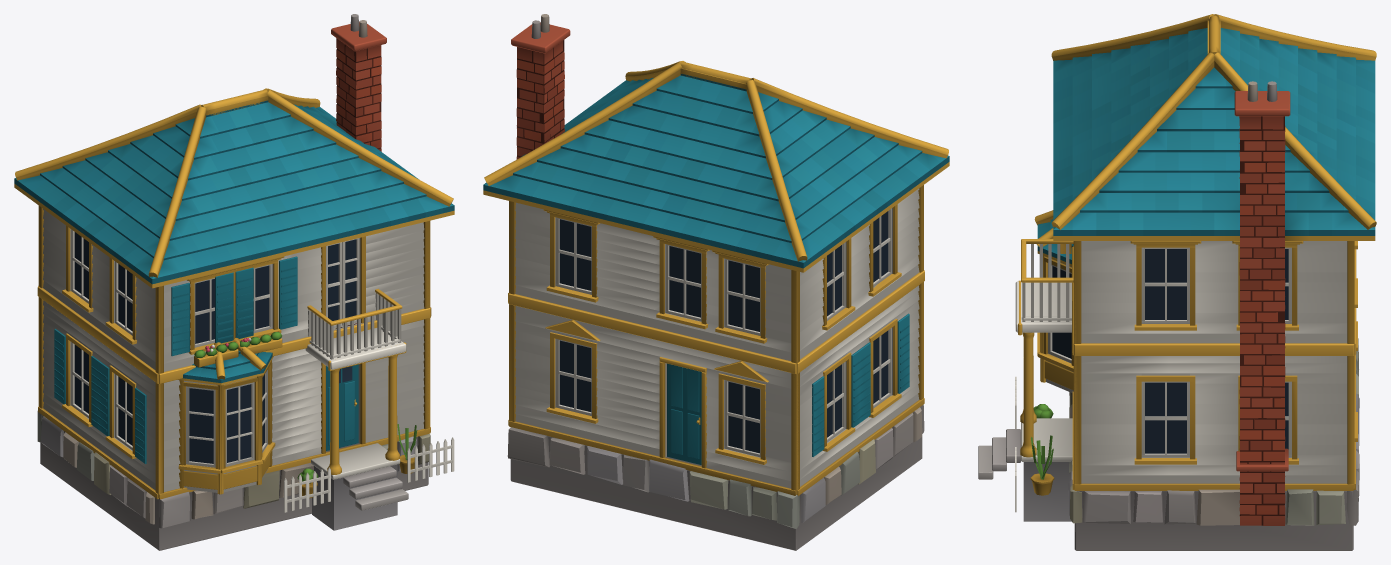
Rendered from takamori-house-a.glb.
The picture shows the model from 3 angles, left to right: view 1: azimuth 30°, elevation 25°; view 2: azimuth 150°, elevation 25°; view 3: azimuth 270°, elevation 25°; orthographic projection. The views are drawn at different scales.
Parts seen in each view (by area): view 1: Takamori house A Clapboard, Takamori house A Roof teal, Takamori house A Trim, Takamori house A Window glow, Takamori house A Brick, Takamori house A Leaf; view 2: Takamori house A Clapboard, Takamori house A Roof teal, Takamori house A Trim, Takamori house A Window glow, Takamori house A Brick; view 3: Takamori house A Clapboard, Takamori house A Roof teal, Takamori house A Trim, Takamori house A Brick, Takamori house A Window glow, Takamori house A Leaf.
Boxes of the visible parts, bbox=[...] form: Takamori house A Clapboard: bbox=[37, 14, 454, 550]; Takamori house A Roof teal: bbox=[14, 100, 454, 463]; Takamori house A Trim: bbox=[14, 88, 454, 499]; Takamori house A Window glow: bbox=[74, 232, 356, 463]; Takamori house A Brick: bbox=[331, 22, 386, 328]; Takamori house A Leaf: bbox=[194, 331, 417, 483]; Takamori house A Clapboard: bbox=[507, 14, 924, 550]; Takamori house A Roof teal: bbox=[483, 73, 949, 464]; Takamori house A Trim: bbox=[483, 61, 949, 495]; Takamori house A Window glow: bbox=[559, 211, 888, 453]; Takamori house A Brick: bbox=[511, 22, 570, 159]; Takamori house A Clapboard: bbox=[978, 81, 1359, 550]; Takamori house A Roof teal: bbox=[1037, 28, 1375, 264]; Takamori house A Trim: bbox=[1018, 14, 1376, 495]; Takamori house A Brick: bbox=[1234, 91, 1290, 525]; Takamori house A Window glow: bbox=[1052, 249, 1288, 453]; Takamori house A Leaf: bbox=[1031, 404, 1053, 479].
Bounding box in the file's own units: 7.9 × 9.76 × 7.43.
